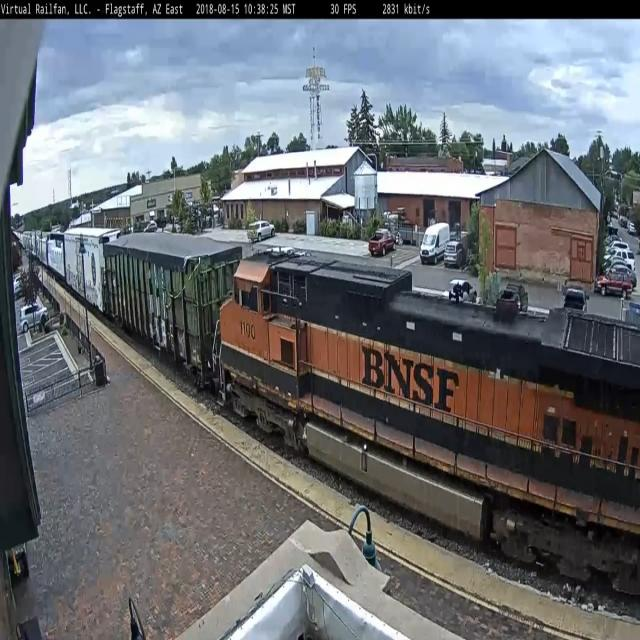boxcar: (62, 222, 122, 312)
gondola: (101, 225, 244, 387)
locomotive: (211, 242, 640, 624)
